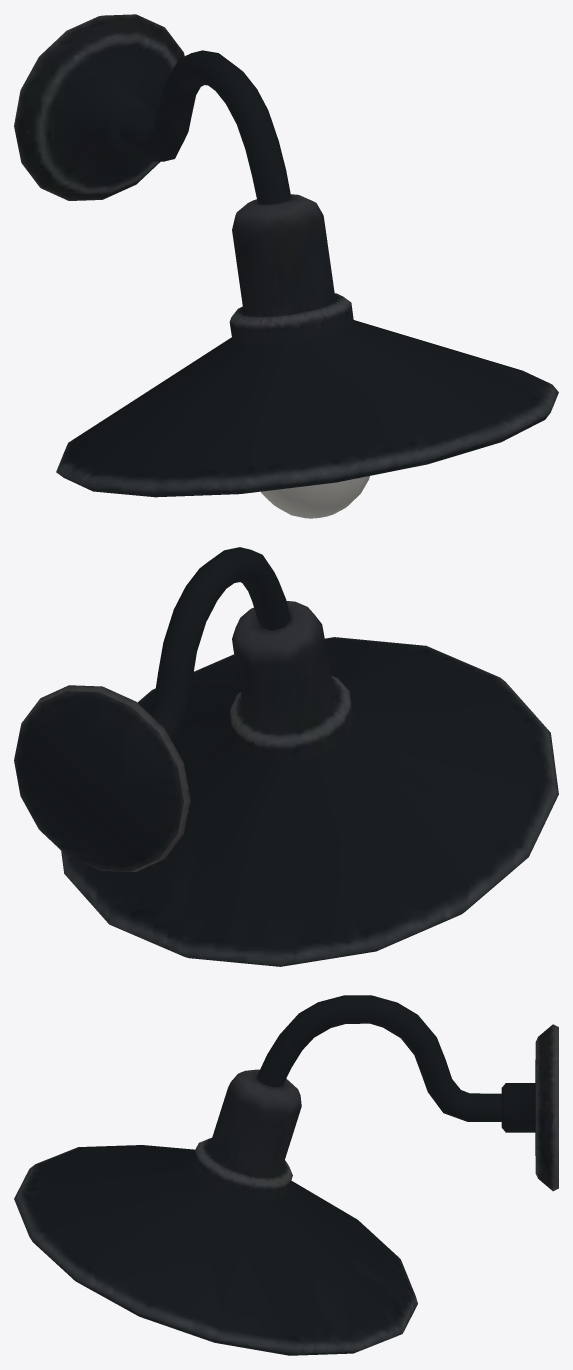
The picture shows the model from 3 angles, top to bottom: view 1: azimuth 30°, elevation 25°; view 2: azimuth 150°, elevation 25°; view 3: azimuth 270°, elevation 25°; orthographic projection. The views are drawn at different scales.
Size of the model in its own units: 6.71 by 5.6 by 8.7.
1 material, 1 textured.
